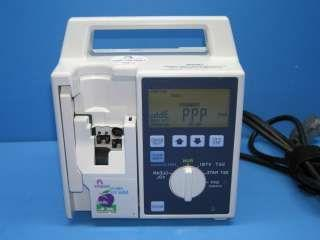plumxl1: (50, 17, 246, 222)
